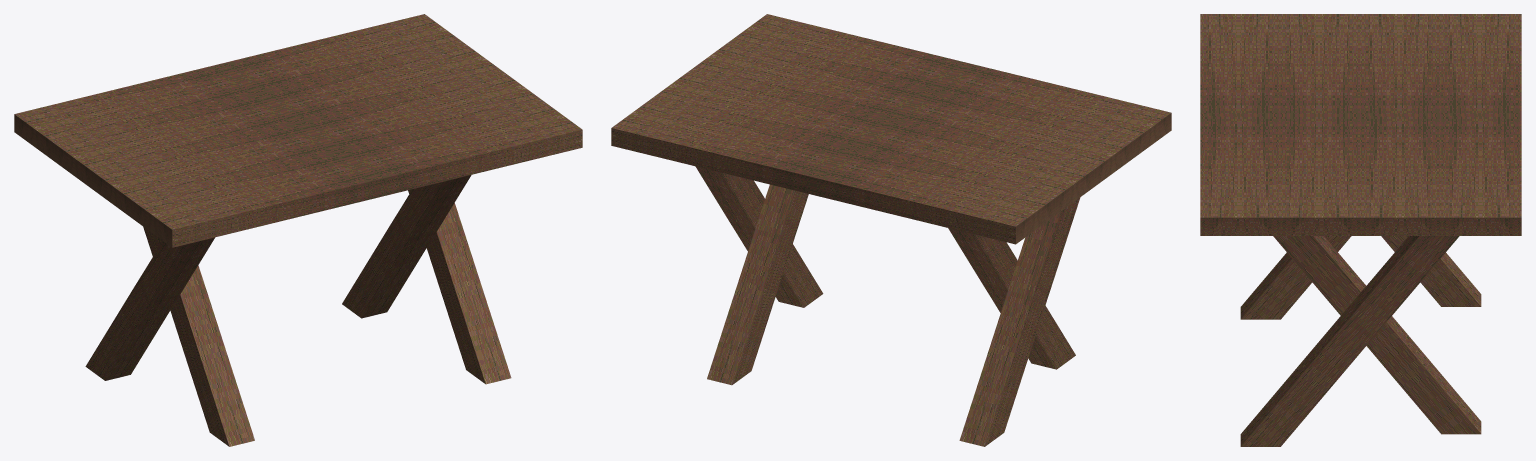
The model's file is desk.glb.
3 views of the same model, side by side, from view 1: azimuth 30°, elevation 25°; view 2: azimuth 150°, elevation 25°; view 3: azimuth 270°, elevation 25° (orthographic). The views are drawn at different scales.
Parts seen in each view (by area): view 1: object0; view 2: object0; view 3: object0.
Boxes of the visible parts, x1,y1,x2,y2 form: object0: (14, 14, 582, 446); object0: (611, 14, 1171, 446); object0: (1200, 14, 1521, 446).
Size of the model in its own units: 4.78 by 2.79 by 3.19.
1 material, 1 textured.
